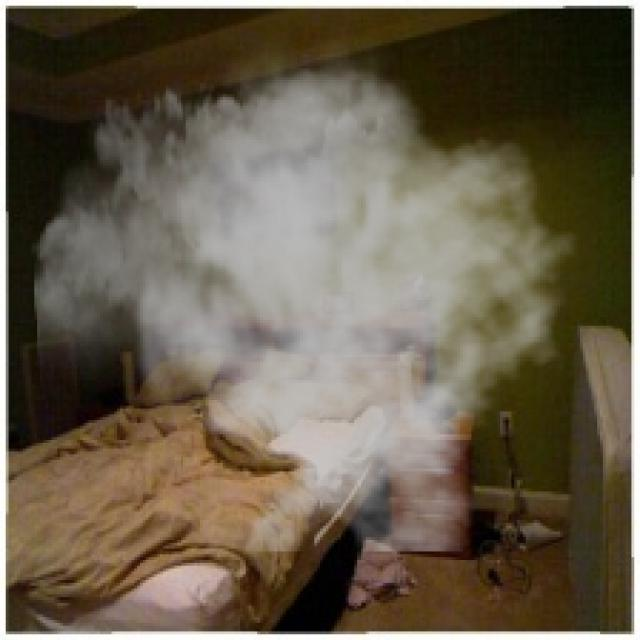smoke: (31, 17, 580, 552)
